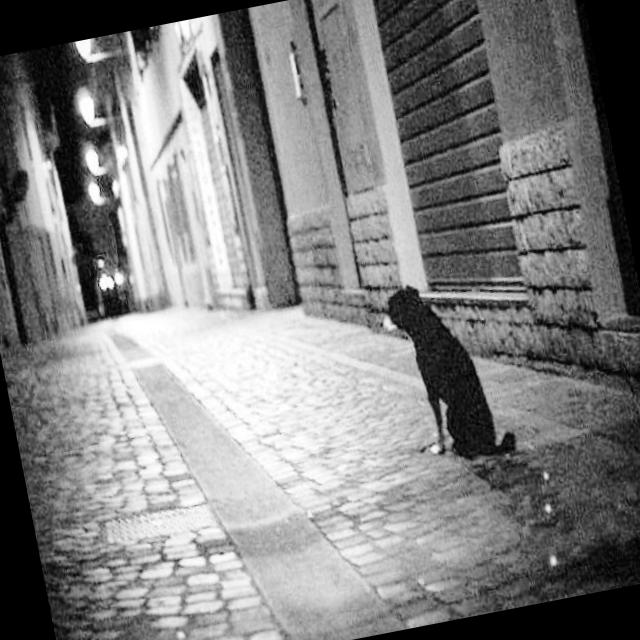Dog: (349, 251, 524, 480)
